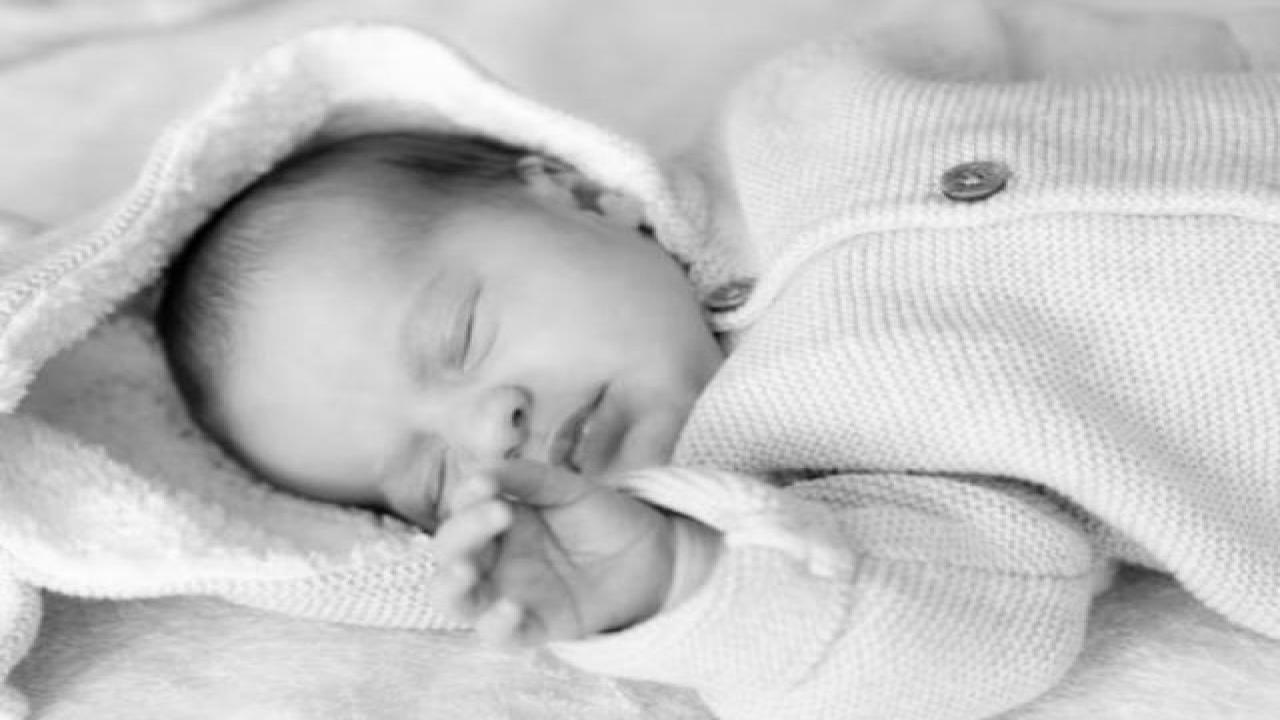hand: (437, 464, 670, 650)
